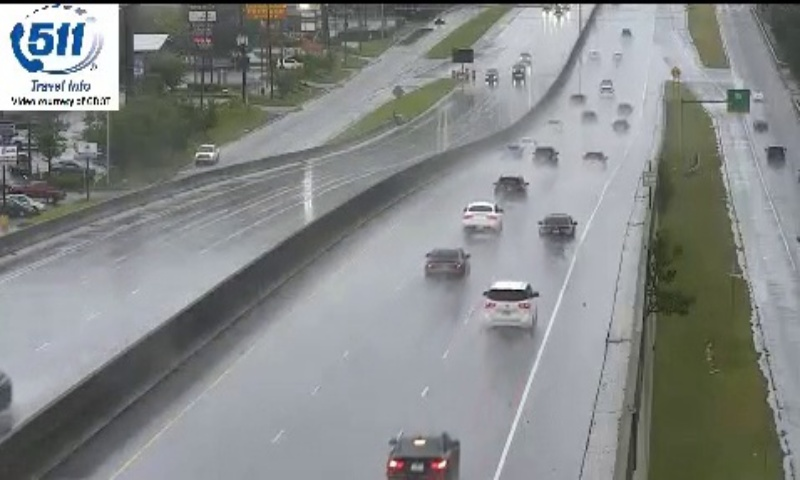car: (388, 428, 460, 480), (483, 281, 533, 329), (425, 249, 470, 280), (461, 201, 503, 234), (538, 213, 575, 240), (495, 175, 527, 201)
